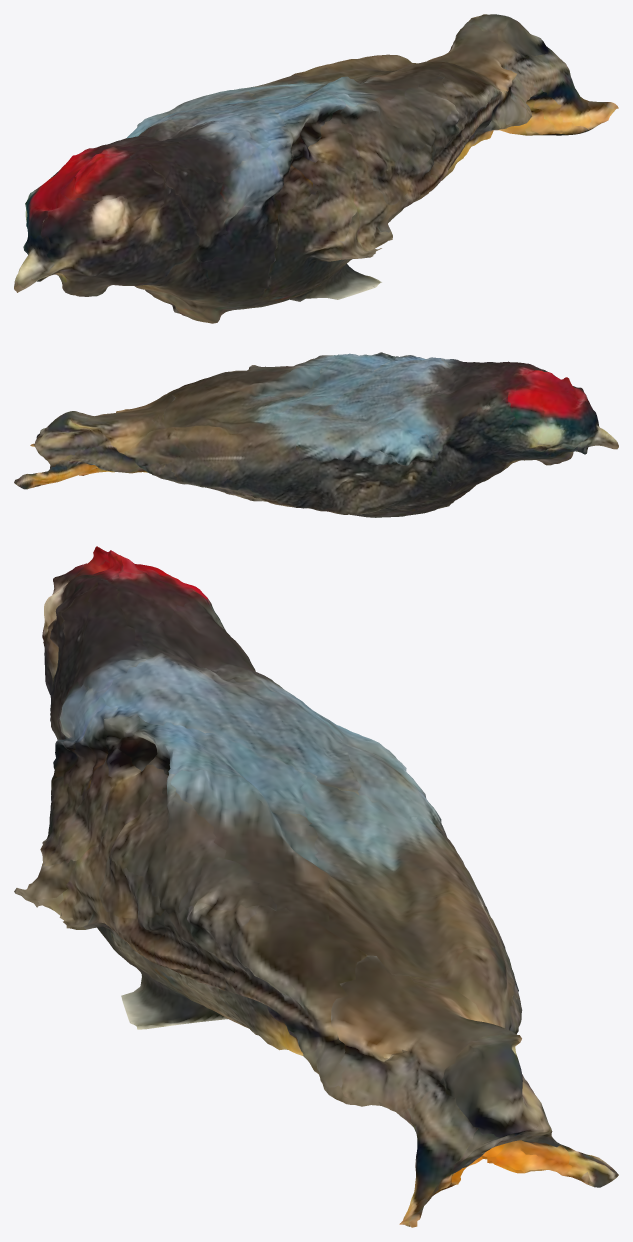
The model's file is n2__manakin.glb.
3 renders of one model, top to bottom at view 1: azimuth 30°, elevation 25°; view 2: azimuth 150°, elevation 25°; view 3: azimuth 270°, elevation 25°, orthographic. The views are drawn at different scales.
Visible parts, largest first — view 1: Object_4; view 2: Object_4; view 3: Object_4.
Boxes of the visible parts, x1,y1,x2,y2 form: Object_4: (14,14,618,323); Object_4: (14,352,618,517); Object_4: (14,546,618,1227).
Bounding box in the file's own units: 0.124 × 0.0332 × 0.0652.
1 material, 1 textured.
